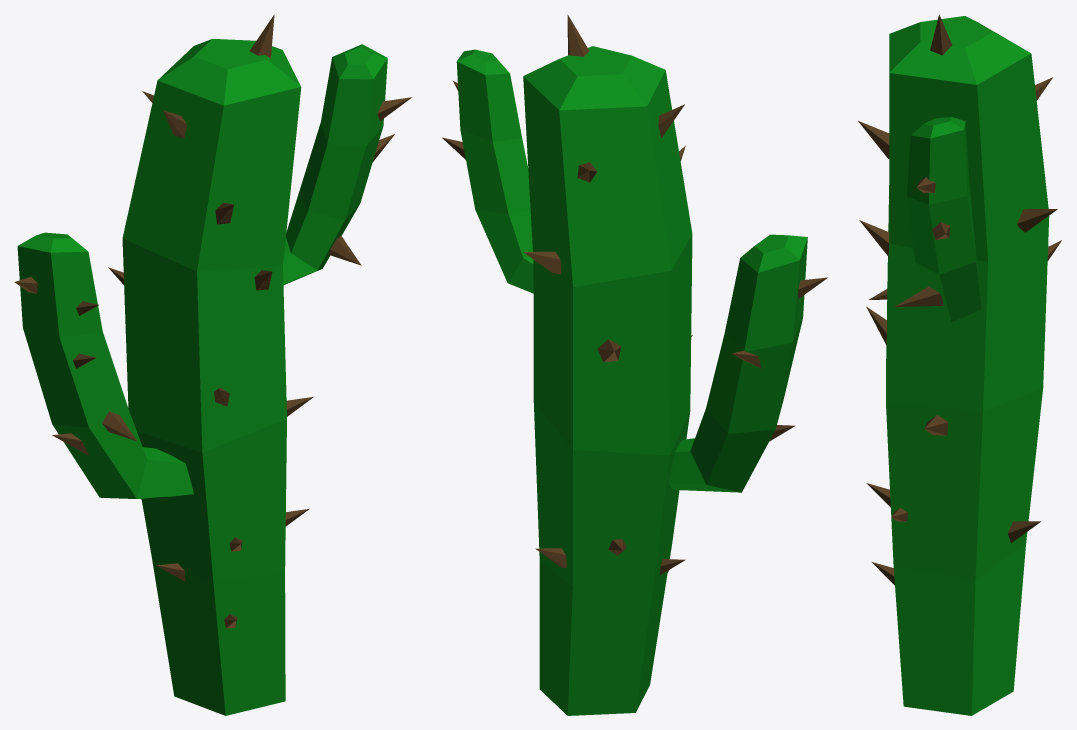
The model's file is Cactus.fbx.
3 renders of one model, left to right at view 1: azimuth 30°, elevation 25°; view 2: azimuth 150°, elevation 25°; view 3: azimuth 270°, elevation 25°, orthographic. The views are drawn at different scales.
Visible parts, largest first — view 1: Cone; view 2: Cone; view 3: Cone.
Boxes of the visible parts, x1,y1,x2,y2 form: Cone: (14, 14, 412, 715); Cone: (442, 14, 827, 715); Cone: (858, 14, 1061, 715).
Bounding box in the file's own units: 261 × 591 × 977.
